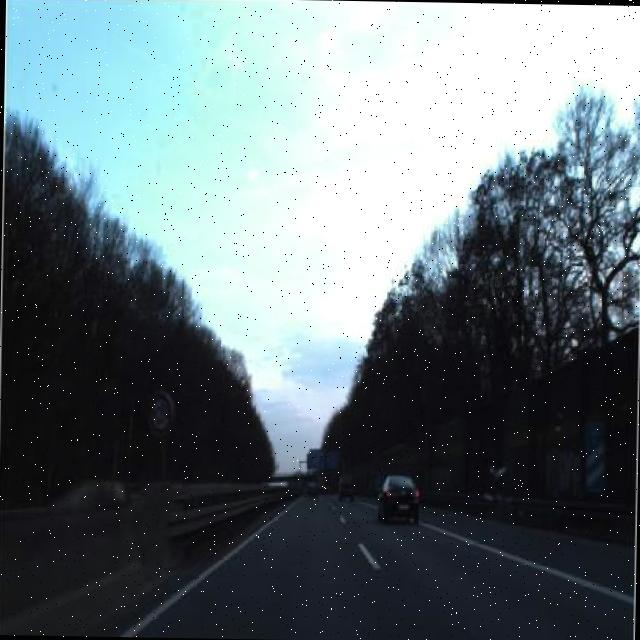Ograniczenie predkosci do 120: (146, 386, 178, 439)
